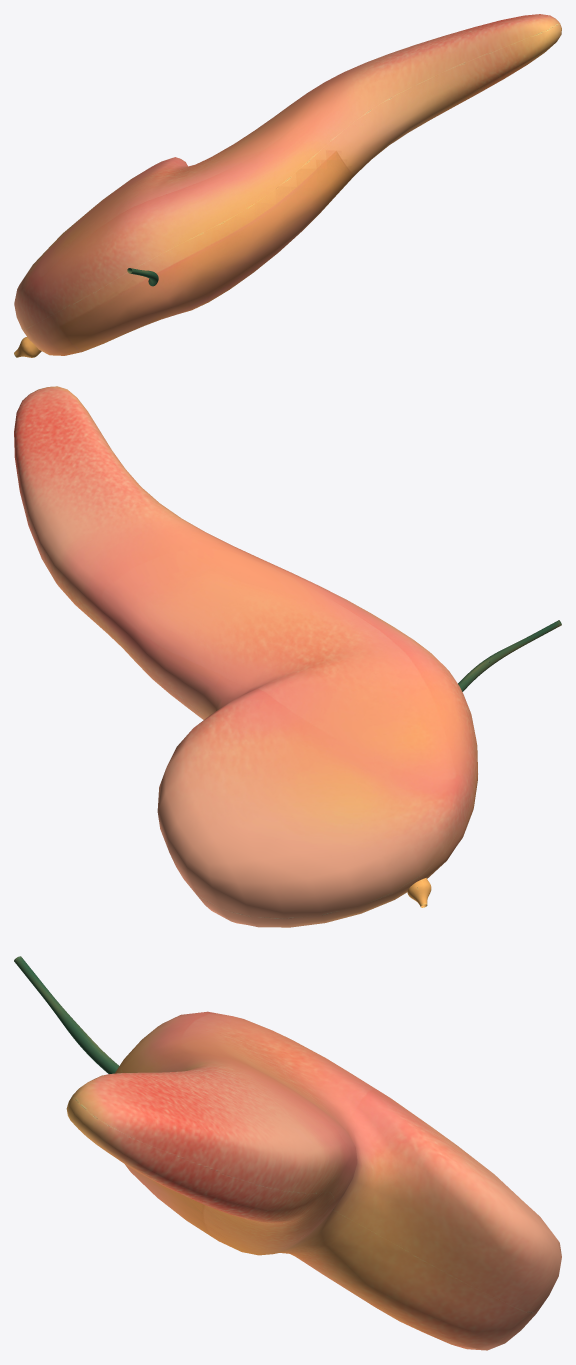
File: pancreas.obj
The picture shows the model from 3 angles, top to bottom: view 1: azimuth 30°, elevation 25°; view 2: azimuth 150°, elevation 25°; view 3: azimuth 270°, elevation 25°; orthographic projection. The views are drawn at different scales.
Parts seen in each view (by area): view 1: Pancreas; view 2: Pancreas; view 3: Pancreas.
Boxes of the visible parts, <box> form: Pancreas: <box>14,14,561,357</box>; Pancreas: <box>14,386,561,927</box>; Pancreas: <box>14,956,561,1350</box>.
Bounding box in the file's own units: 2.9 × 1.92 × 1.99.
